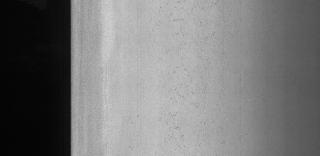silk spot: (153, 0, 224, 150)
